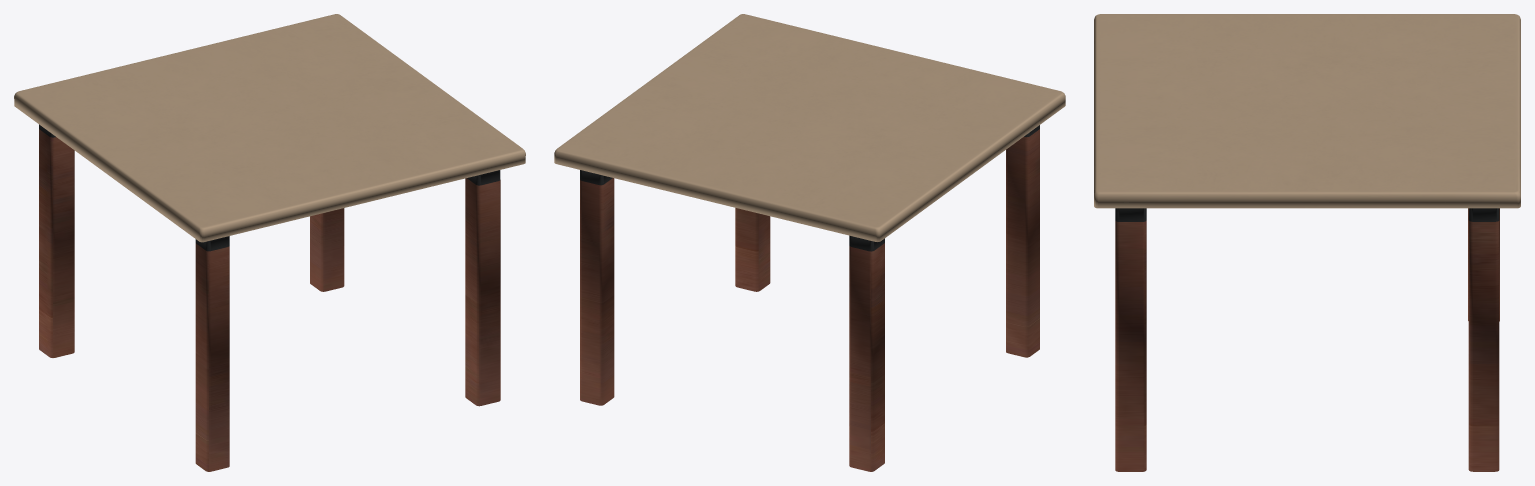
Rendered from tisch.fbx.
The picture shows the model from 3 angles, left to right: view 1: azimuth 30°, elevation 25°; view 2: azimuth 150°, elevation 25°; view 3: azimuth 270°, elevation 25°; orthographic projection. The views are drawn at different scales.
Visible parts, largest first — view 1: Cube; view 2: Cube; view 3: Cube.
Boxes of the visible parts, box(x1,y1,x2,y2) form: Cube: box(14, 14, 525, 471); Cube: box(554, 14, 1065, 471); Cube: box(1094, 14, 1520, 471).
Bounding box in the file's own units: 90 × 67 × 90.
3 materials, 3 textured.
